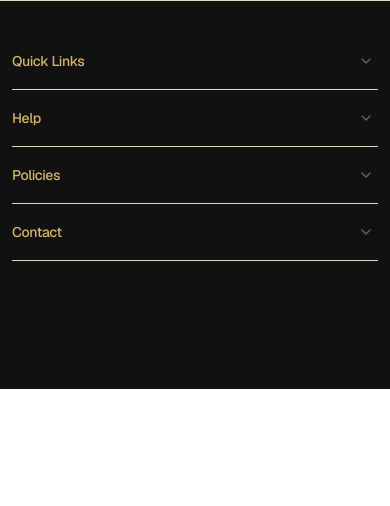
Test: AppFooter › collapses and expands columns on mobile via the heading toggle
The width and height of the screenshot is (390, 506).
Click the button named "Toggle Help": (366, 118) [354,106,378,130]
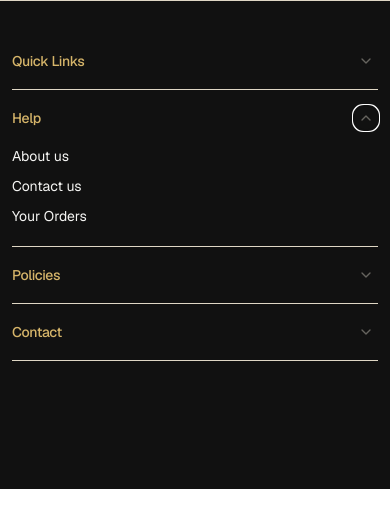
Expected: the button named "Toggle Help" is expanded
Click the button named "Toggle Help": (366, 118) [354,106,378,130]
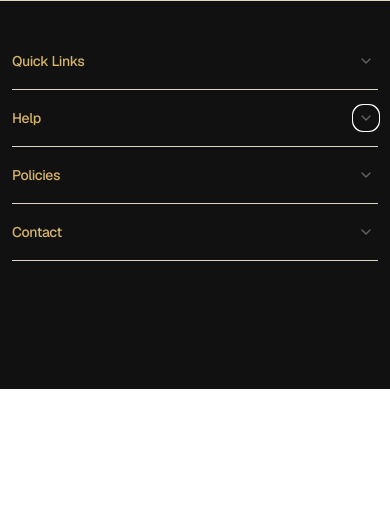
Expected: the button named "Toggle Help" is collapsed, [354,106,378,130]
